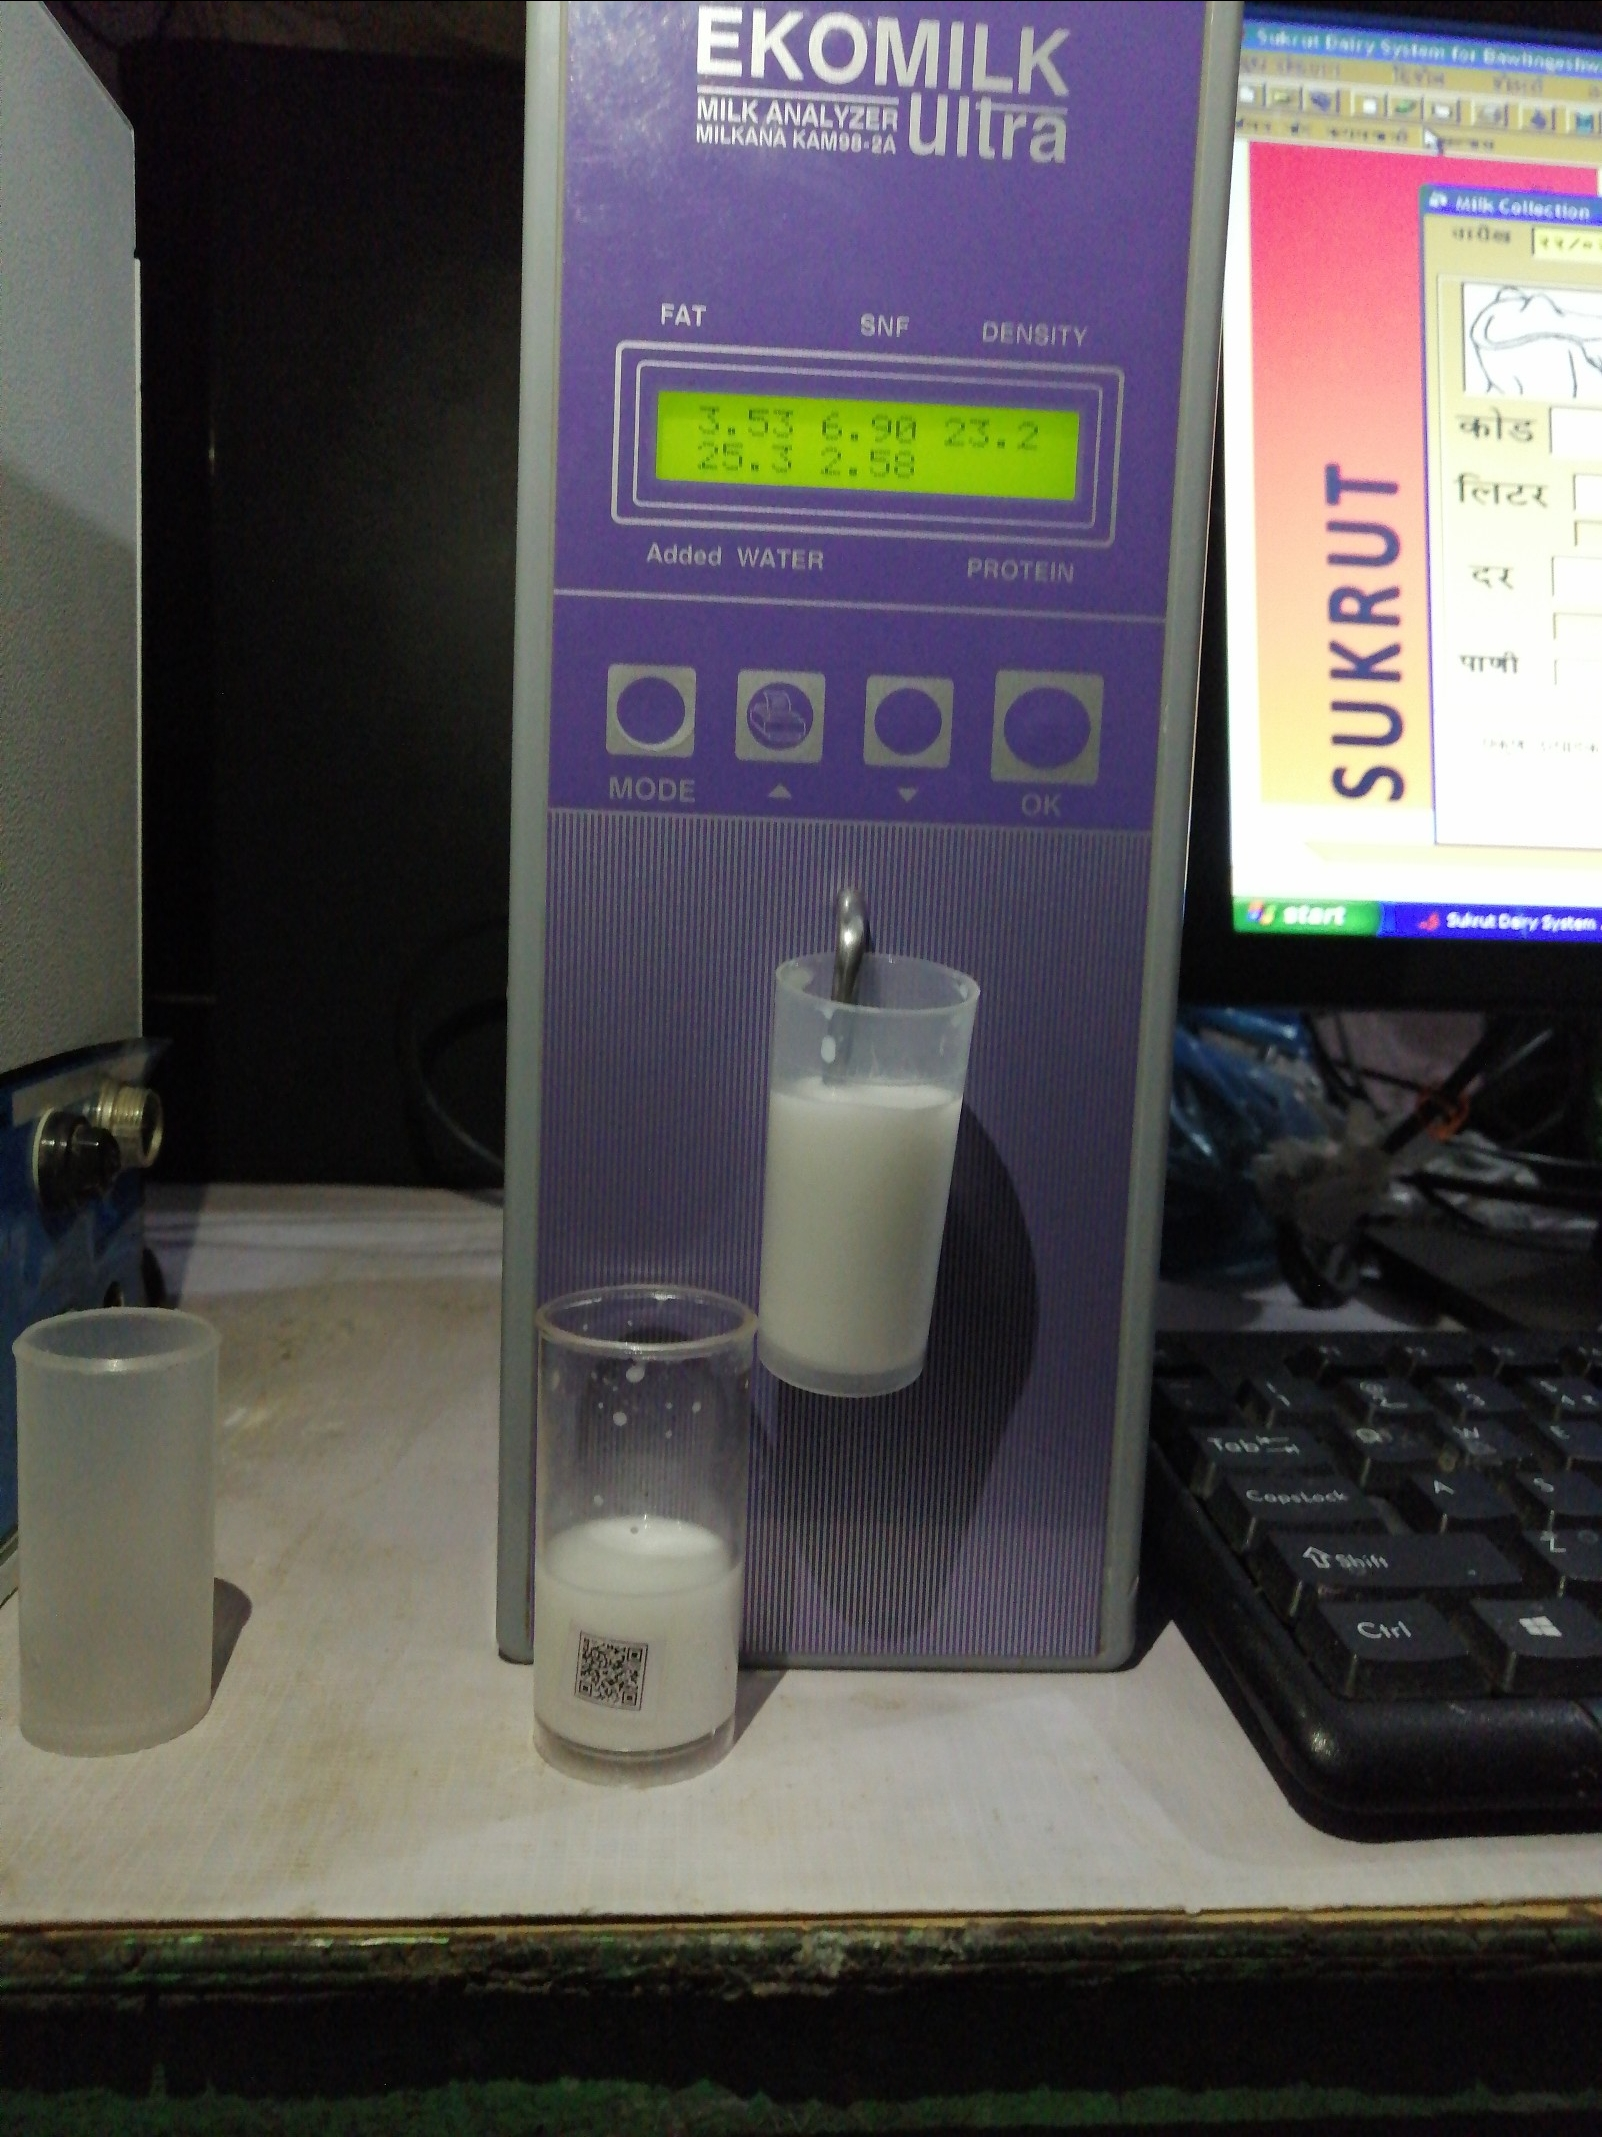lcd: (623, 369, 1112, 522)
qr: (552, 1602, 675, 1725)
